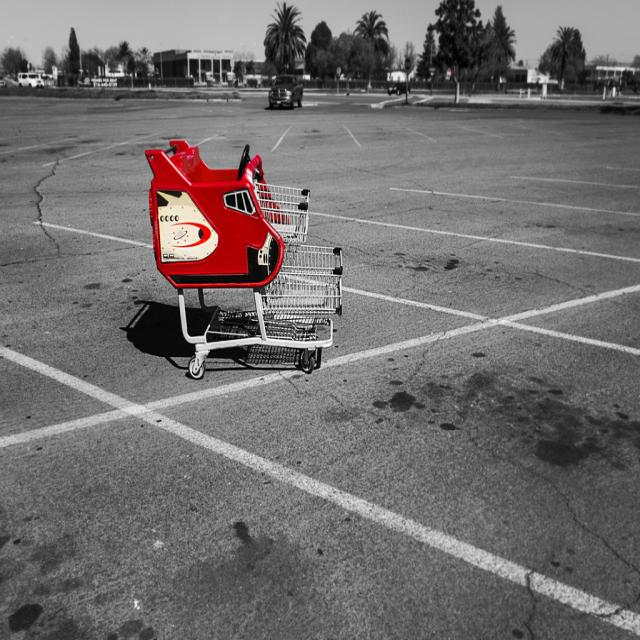car: (268, 74, 302, 109)
